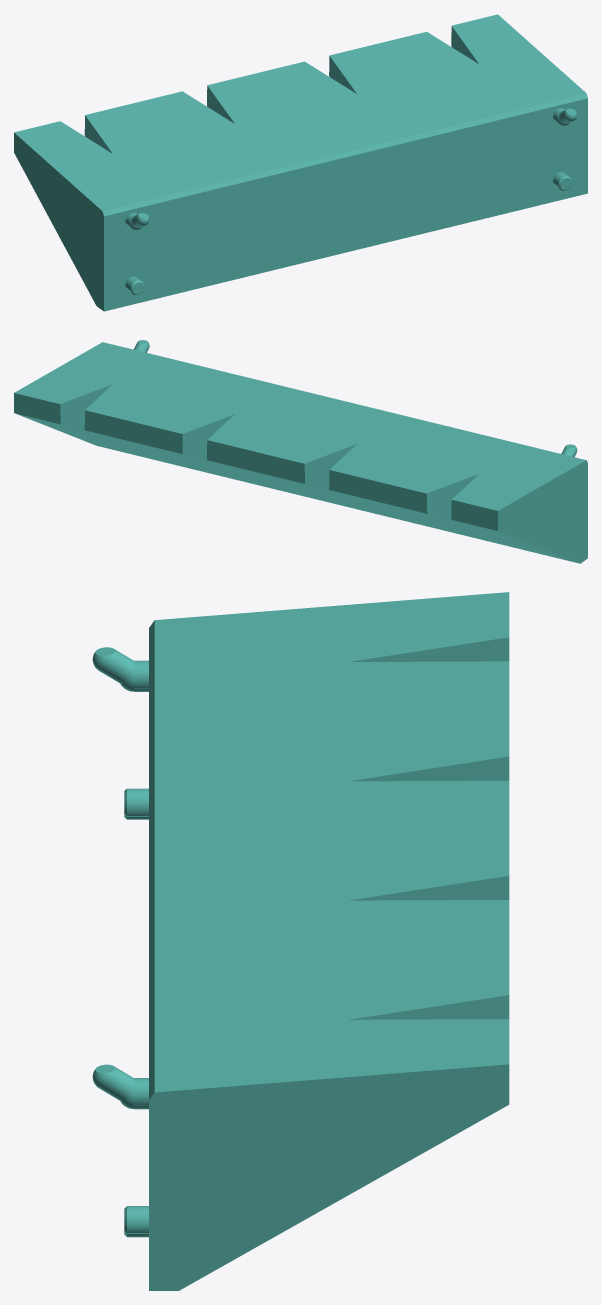
File: part-bd01-slope-e__v3__installed.glb
3 views of the same model, one above another, from view 1: azimuth 30°, elevation 25°; view 2: azimuth 150°, elevation 25°; view 3: azimuth 270°, elevation 25° (orthographic). The views are drawn at different scales.
Visible parts, largest first — view 1: Actual holder mesh; view 2: Actual holder mesh; view 3: Actual holder mesh.
Boxes of the visible parts, x1,y1,x2,y2 form: Actual holder mesh: [14, 14, 587, 311]; Actual holder mesh: [14, 340, 587, 563]; Actual holder mesh: [92, 592, 509, 1290].
Size of the model in its own units: 0.2012 by 0.045 by 0.075.
